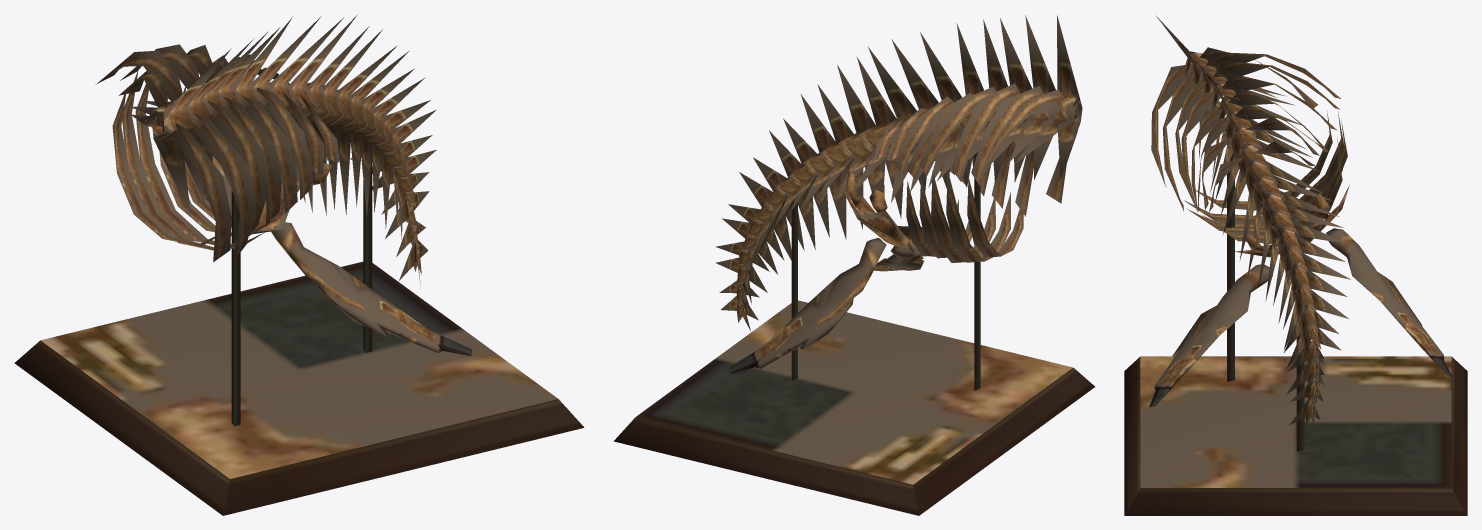
File: int_din_suz_c.dae
3 views of the same model, side by side, from view 1: azimuth 30°, elevation 25°; view 2: azimuth 150°, elevation 25°; view 3: azimuth 270°, elevation 25° (orthographic). The views are drawn at different scales.
Parts seen in each view (by area): view 1: int_din_suz_c; view 2: int_din_suz_c; view 3: int_din_suz_c.
Part boxes in pixels (box(x1,y1,x2,y2)): int_din_suz_c: box(14, 15, 584, 515); int_din_suz_c: box(613, 15, 1095, 515); int_din_suz_c: box(1124, 16, 1467, 515).
Size of the model in its own units: 62.97 by 69.43 by 58.65.
1 material, 1 textured.
